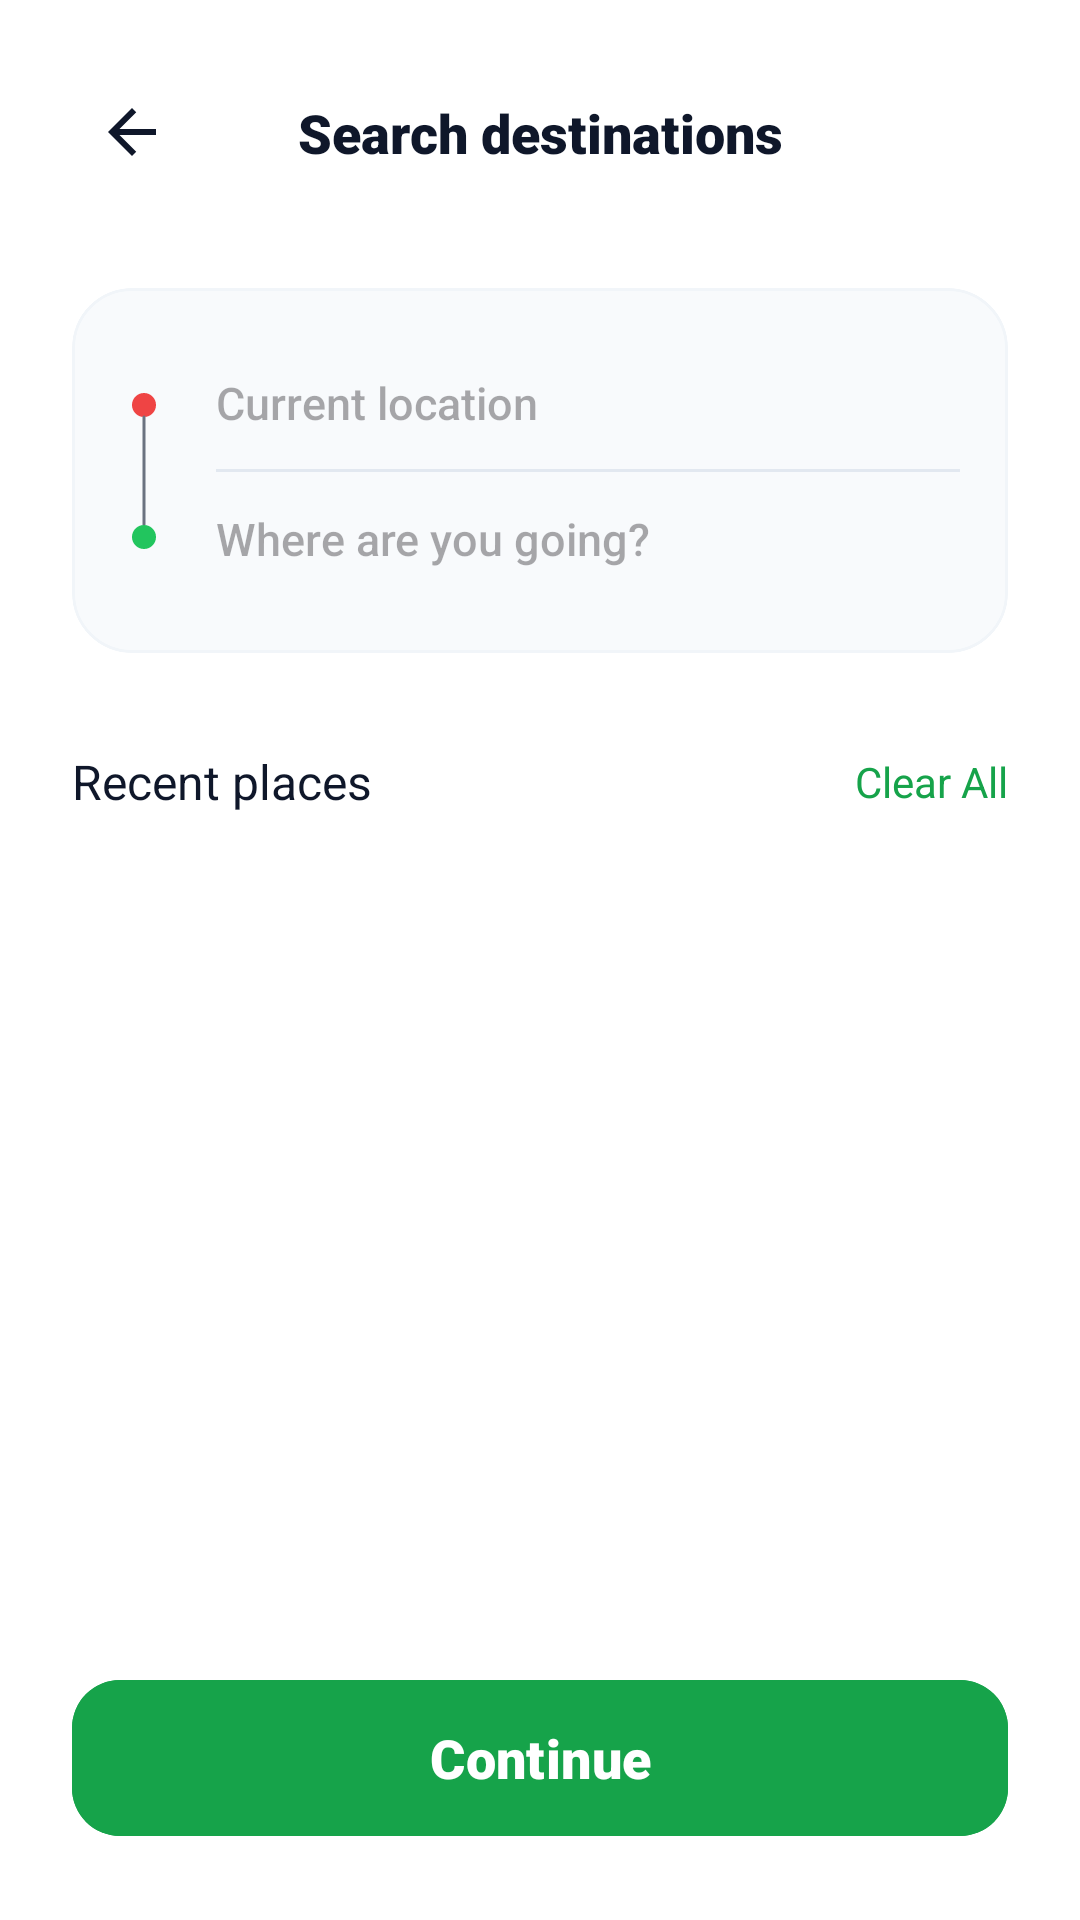

Icon bounding boxes for this 1080×1920 phone screenshot, format {"x1": x1, "y1": y1, "x2": x2, "y2": y2}:
arrow back: {"x1": 108, "y1": 108, "x2": 156, "y2": 156}
